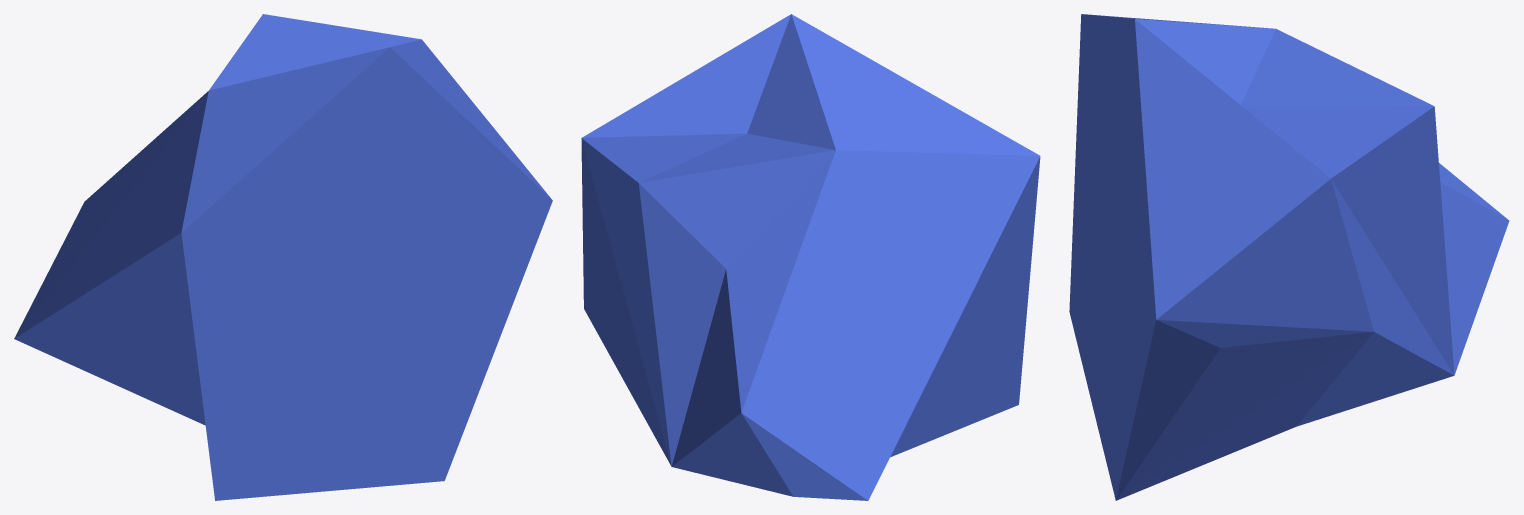
Rendered from rozbity_krysztal.fbx.
The picture shows the model from 3 angles, left to right: view 1: azimuth 30°, elevation 25°; view 2: azimuth 150°, elevation 25°; view 3: azimuth 270°, elevation 25°; orthographic projection. The views are drawn at different scales.
Visible parts, largest first — view 1: rozbity_krysztal; view 2: rozbity_krysztal; view 3: rozbity_krysztal.
Boxes of the visible parts, x1,y1,x2,y2 form: rozbity_krysztal: (14,14,552,500); rozbity_krysztal: (581,14,1040,500); rozbity_krysztal: (1069,14,1509,500).
Bounding box in the file's own units: 45.86 × 47.16 × 40.99.
